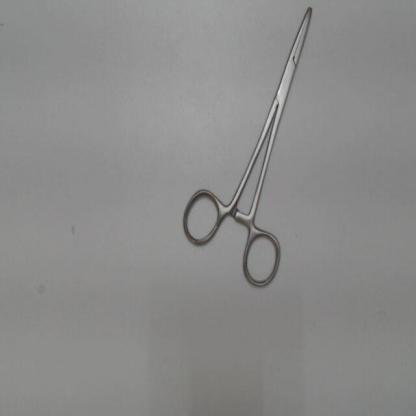Mayo Needle Holder: (178, 3, 319, 294)
